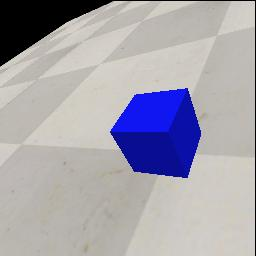box: (110, 88, 201, 178)
